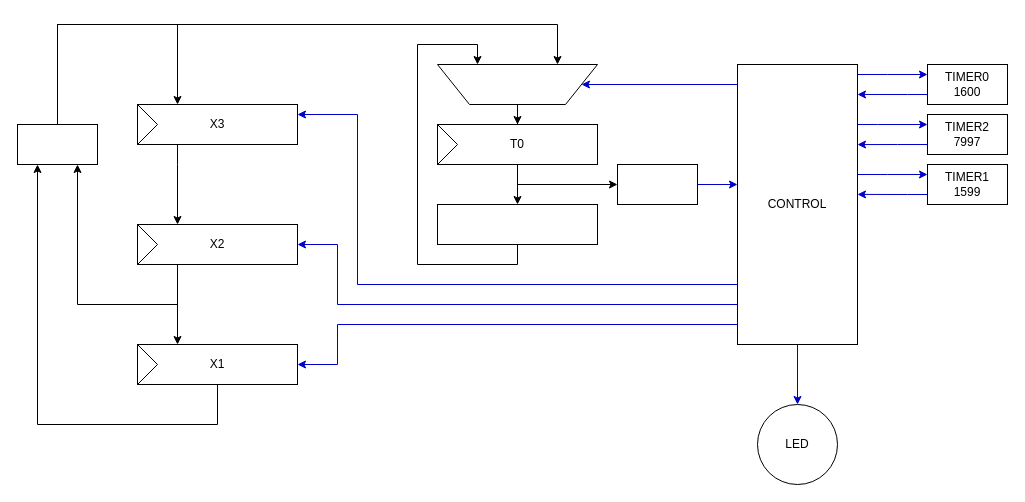
Some shapes in this 1025 by 502 pixel diagram are drawn without their labels. The shapes that lost their labels are listed below. From the top down, each one's centre as x and y in pixels, then its label:
point (517, 84): MUX
point (57, 144): ADD
point (657, 184): ZERO?
point (517, 224): DEC
